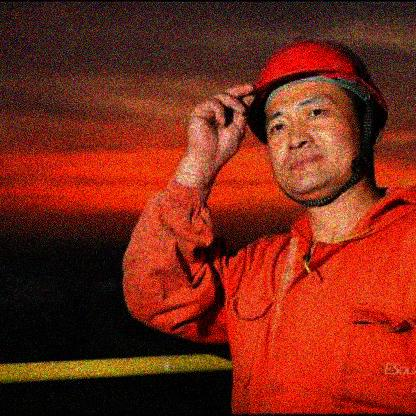helmet: (246, 35, 390, 203)
